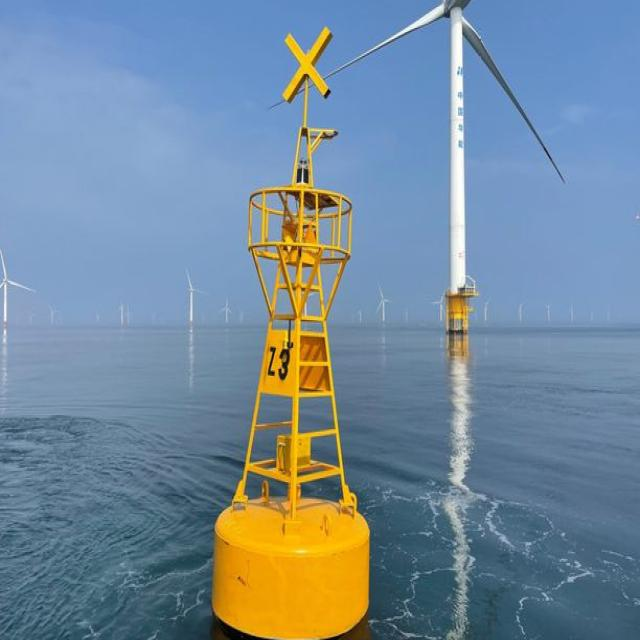buoy: (204, 22, 375, 640)
